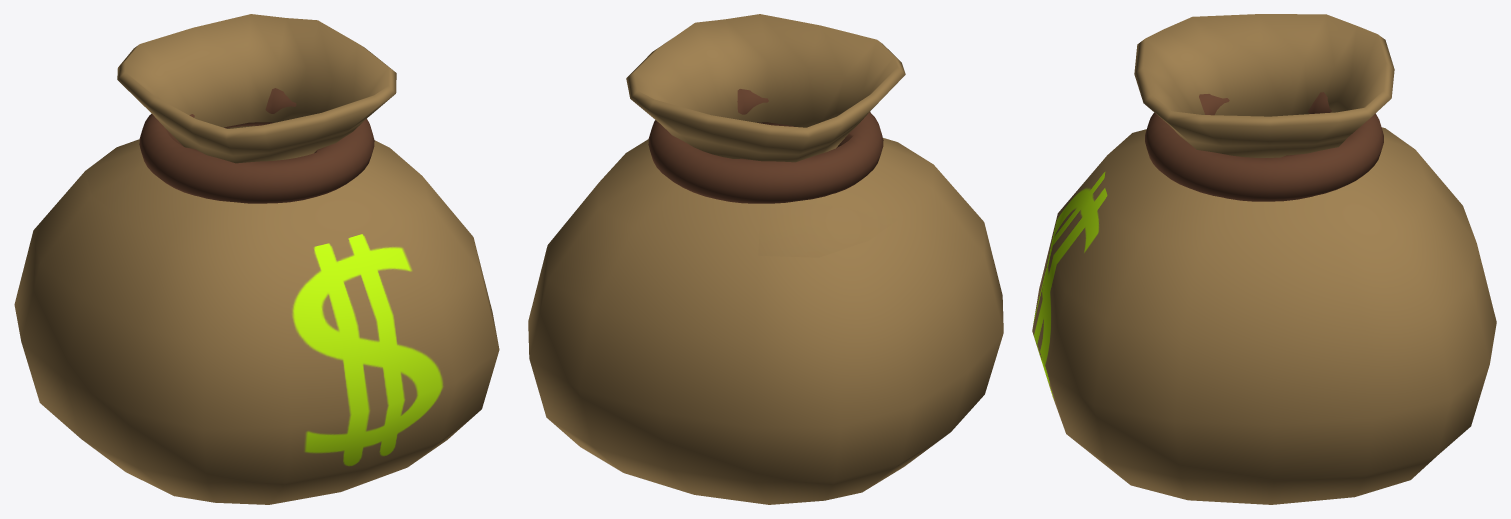
The model's file is money_bag - Copy.fbx.
The picture shows the model from 3 angles, left to right: view 1: azimuth 30°, elevation 25°; view 2: azimuth 150°, elevation 25°; view 3: azimuth 270°, elevation 25°; orthographic projection.
Visible parts, largest first — view 1: Cube, Torus; view 2: Cube, Torus; view 3: Cube, Torus.
Boxes of the visible parts, <box> form: Cube: <box>14,14,499,504</box>; Torus: <box>139,88,374,203</box>; Cube: <box>528,14,1003,504</box>; Torus: <box>648,89,883,203</box>; Cube: <box>1032,14,1496,504</box>; Torus: <box>1145,92,1383,201</box>.
Size of the model in its own units: 593 by 573 by 593.
1 material, 1 textured.
